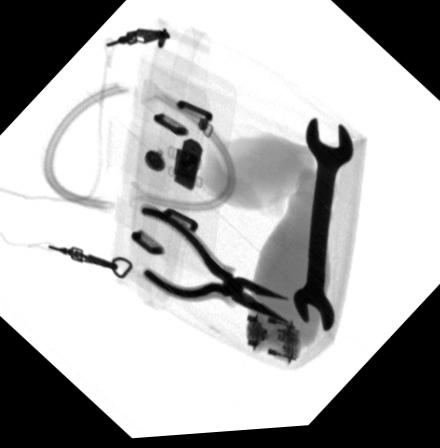Pliers: (138, 206, 290, 329)
Wrench: (289, 121, 354, 334)
